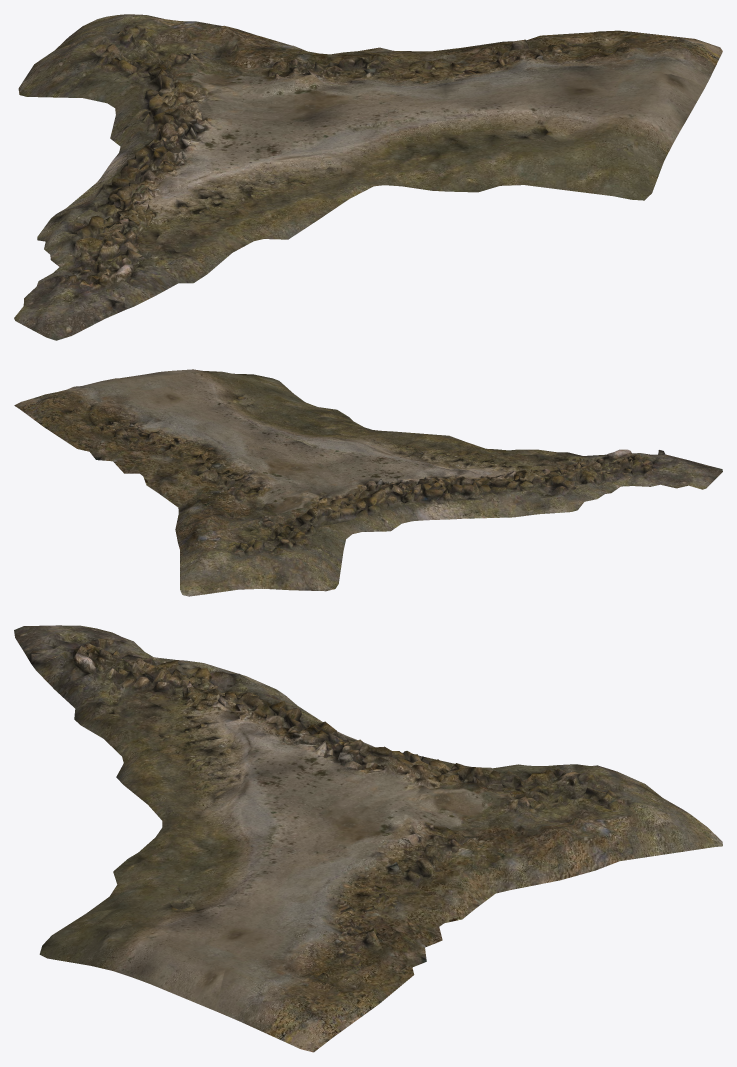
File: coast_rocks_01.glb
The picture shows the model from 3 angles, top to bottom: view 1: azimuth 30°, elevation 25°; view 2: azimuth 150°, elevation 25°; view 3: azimuth 270°, elevation 25°; orthographic projection. The views are drawn at different scales.
Visible parts, largest first — view 1: coast_rocks_01; view 2: coast_rocks_01; view 3: coast_rocks_01.
Boxes of the visible parts, <box> form: coast_rocks_01: <box>14,14,722,340</box>; coast_rocks_01: <box>14,369,722,596</box>; coast_rocks_01: <box>14,625,722,1052</box>.
Bounding box in the file's own units: 59.49 × 3.27 × 42.49.
Materials: 1 (1 with a texture image).
